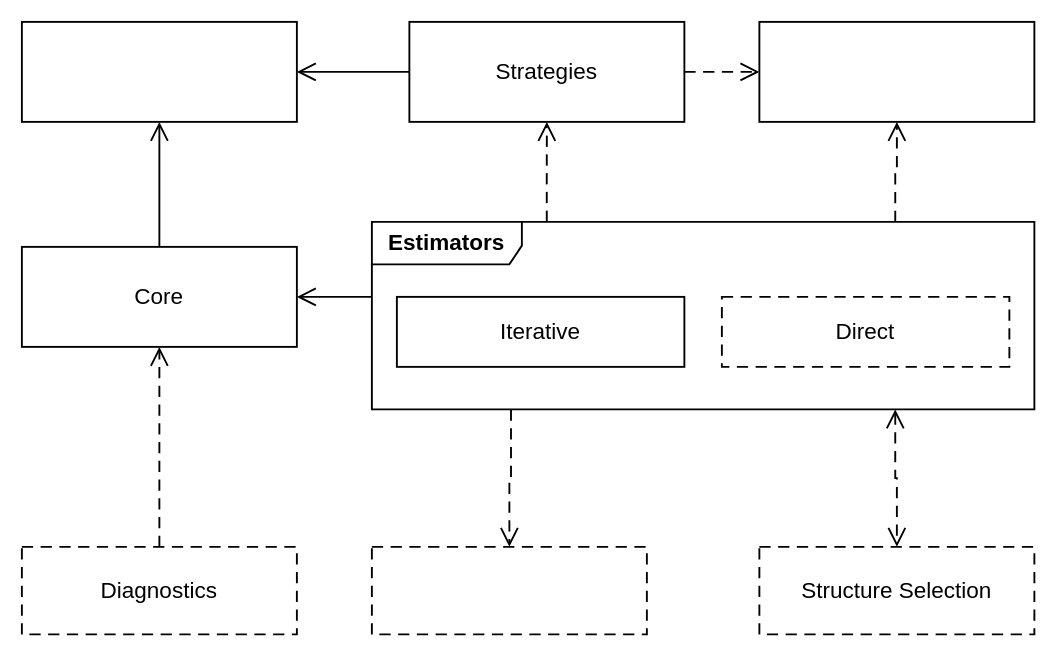
The diagram is 1058 pixels wide and 658 high, and some of its shapes have lost their labels. The shapes that lost their labels are listed below. From the top down, each one's centre as x and y in pixels, then its label:
[158,71]: Distributions (pysatl-core)
[896,71]: Optimizers
[508,590]: Initializers
